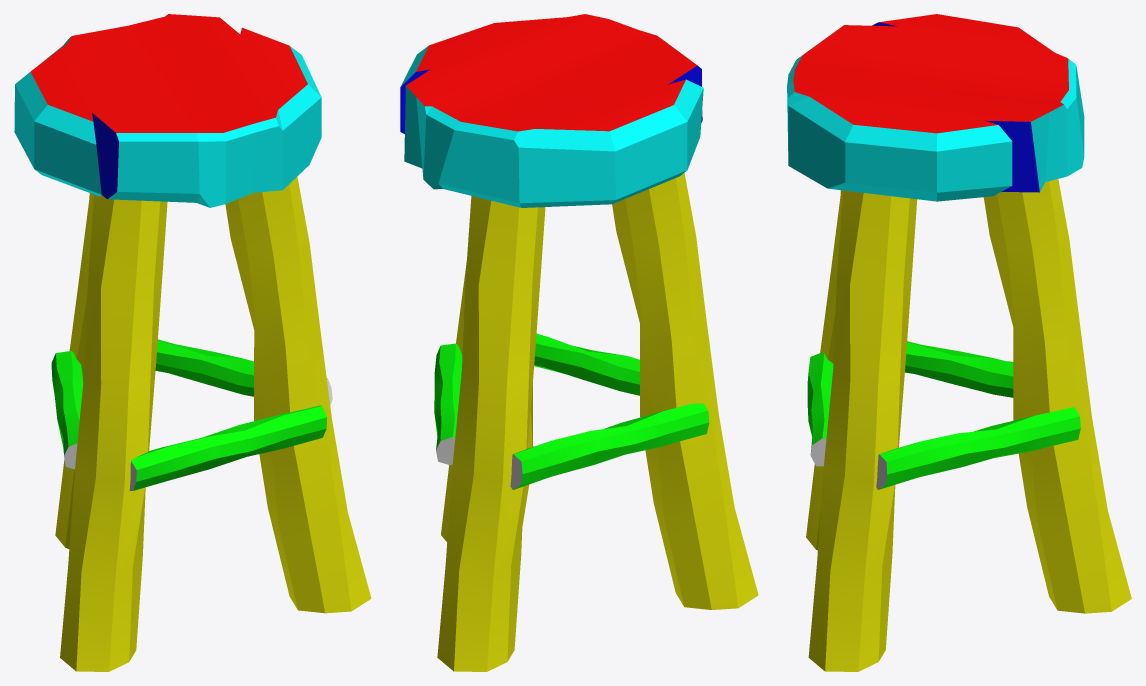
File: Abbie - BarStool.fbx
3 renders of one model, left to right at view 1: azimuth 30°, elevation 25°; view 2: azimuth 150°, elevation 25°; view 3: azimuth 270°, elevation 25°, orthographic.
Parts seen in each view (by area): view 1: barStool; view 2: barStool; view 3: barStool.
Part boxes in pixels (x1,y1,x2,y2): barStool: [14, 14, 371, 671]; barStool: [400, 14, 758, 671]; barStool: [787, 14, 1131, 671].
Bounding box in the file's own units: 0.4439 × 0.7415 × 0.4415.
